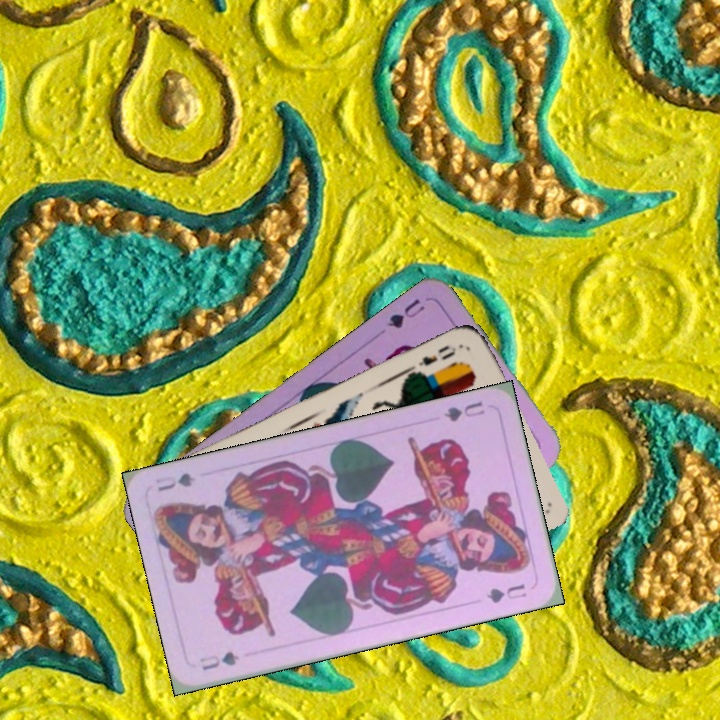EO: (410, 341, 460, 378)
GU: (384, 294, 428, 331), (440, 397, 488, 425), (196, 647, 242, 673)
